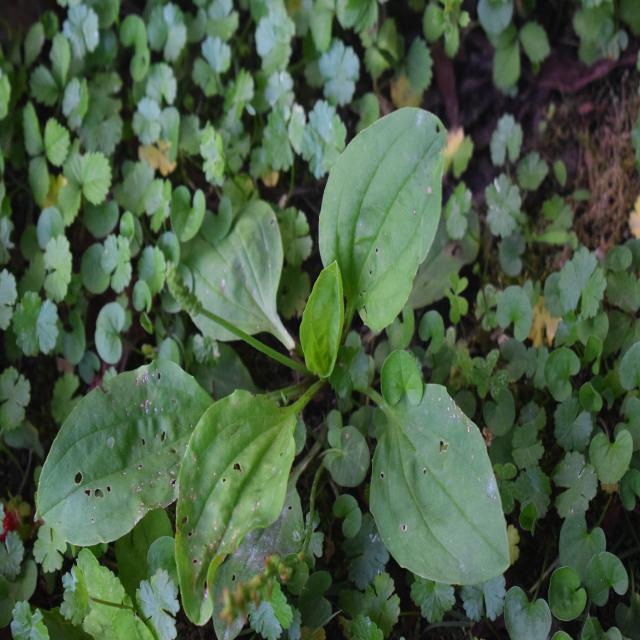plantain: (65, 128, 513, 580)
